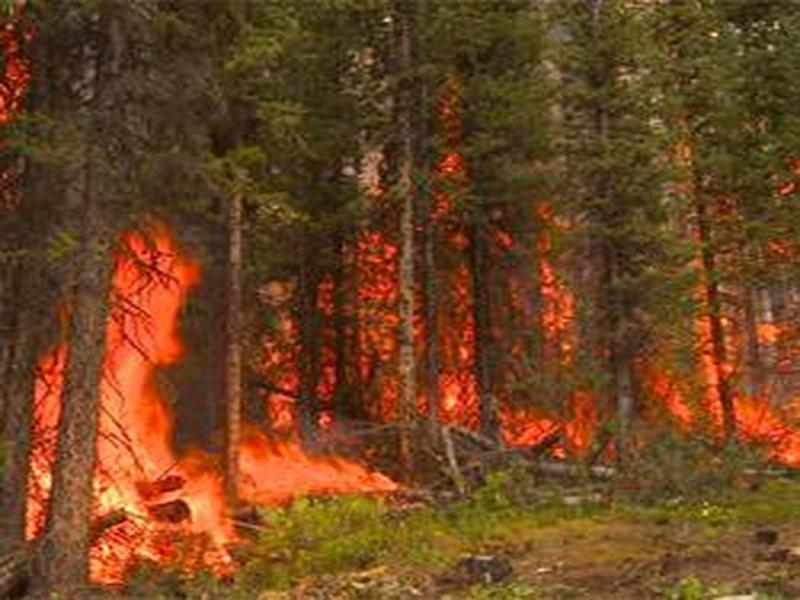FIRE: (34, 221, 797, 588)
